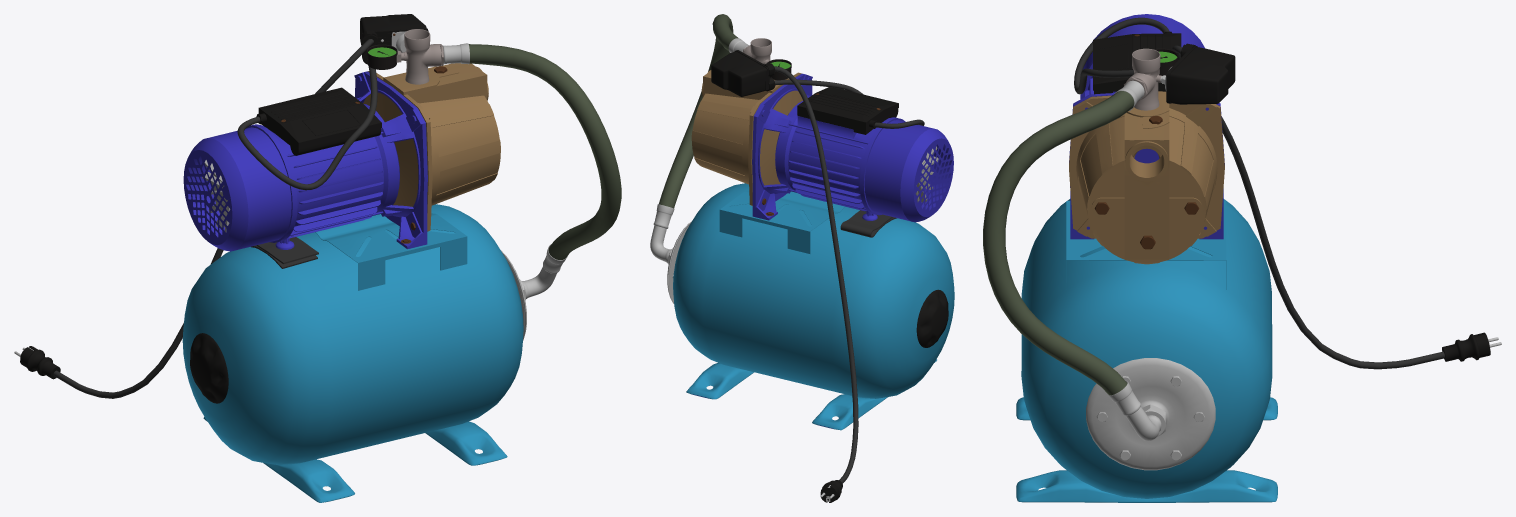
The model's file is PumpLP.fbx.
The picture shows the model from 3 angles, left to right: view 1: azimuth 30°, elevation 25°; view 2: azimuth 150°, elevation 25°; view 3: azimuth 270°, elevation 25°; orthographic projection. The views are drawn at different scales.
Visible parts, largest first — view 1: Pump; view 2: Pump; view 3: Pump.
Part boxes in pixels (left/top/right/bottom): Pump: left=14, top=14, right=621, bottom=502; Pump: left=650, top=14, right=954, bottom=502; Pump: left=983, top=14, right=1501, bottom=502.
Size of the model in its own units: 65.16 by 62.74 by 68.49.
